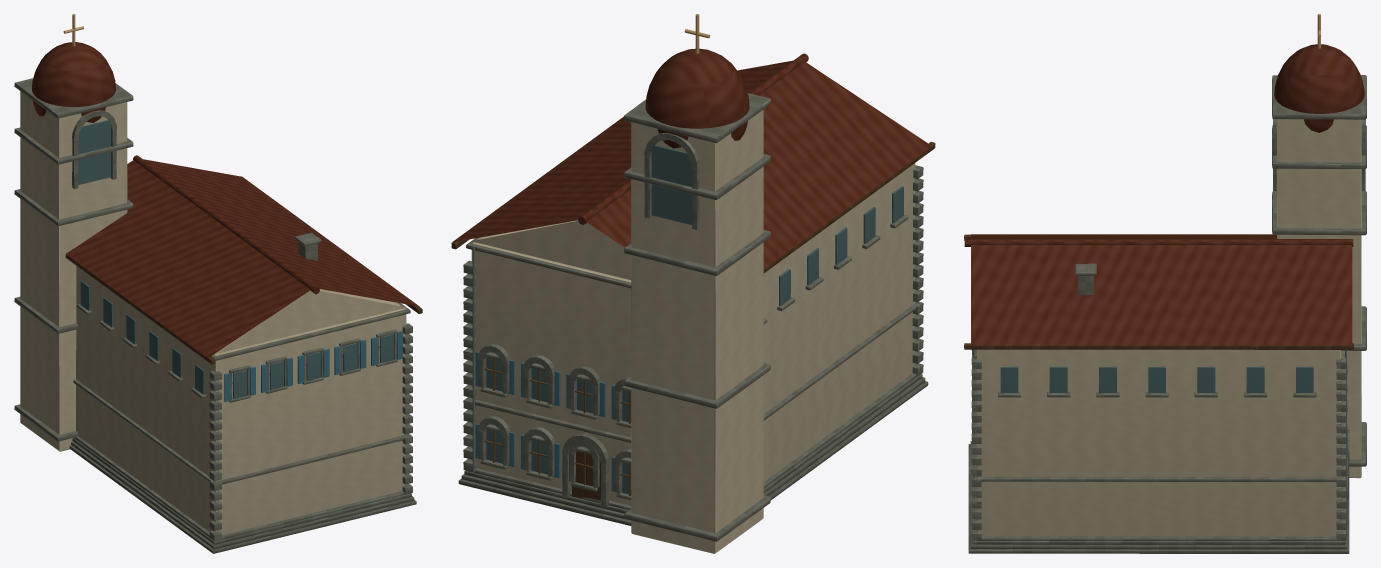
The model's file is building_church_lod1.glb.
3 renders of one model, left to right at view 1: azimuth 30°, elevation 25°; view 2: azimuth 150°, elevation 25°; view 3: azimuth 270°, elevation 25°, orthographic. The views are drawn at different scales.
Parts seen in each view (by area): view 1: stucco_volume, individual_barrel_roof_tiles, stepped_stone_plinth, window_recess, shutter, carved_double_door; view 2: stucco_volume, individual_barrel_roof_tiles, stepped_stone_plinth, window_recess, shutter, carved_double_door, mullion, rainwater_downpipe; view 3: stucco_volume, individual_barrel_roof_tiles, stepped_stone_plinth, window_recess, carved_double_door.
Boxes of the visible parts, x1=… form: stucco_volume: x1=20, y1=91, x2=406, y2=535; individual_barrel_roof_tiles: x1=32, y1=42, x2=419, y2=357; stepped_stone_plinth: x1=14, y1=78, x2=416, y2=553; window_recess: x1=78, y1=120, x2=394, y2=398; shutter: x1=224, y1=331, x2=402, y2=401; carved_double_door: x1=65, y1=253, x2=422, y2=364; stucco_volume: x1=471, y1=109, x2=915, y2=553; individual_barrel_roof_tiles: x1=452, y1=48, x2=931, y2=268; stepped_stone_plinth: x1=458, y1=93, x2=928, y2=541; window_recess: x1=486, y1=145, x2=903, y2=494; shutter: x1=475, y1=351, x2=614, y2=491; carved_double_door: x1=451, y1=121, x2=935, y2=500; mullion: x1=484, y1=358, x2=631, y2=496; rainwater_downpipe: x1=472, y1=246, x2=474, y2=472; stucco_volume: x1=977, y1=119, x2=1361, y2=536; individual_barrel_roof_tiles: x1=964, y1=44, x2=1364, y2=345; stepped_stone_plinth: x1=968, y1=75, x2=1366, y2=553; window_recess: x1=973, y1=350, x2=1313, y2=393; carved_double_door: x1=964, y1=234, x2=1353, y2=349.
Size of the model in its own units: 15.12 by 27 by 22.09.
Materials: 9 (5 with a texture image).
